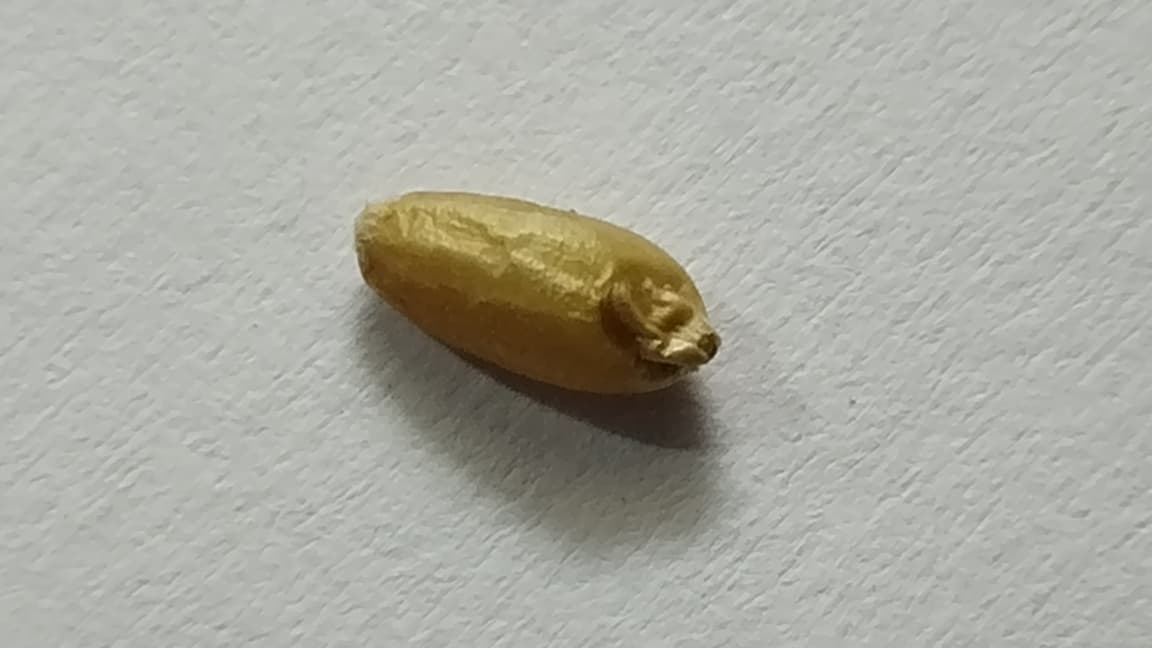healthy: (355, 191, 719, 399)
